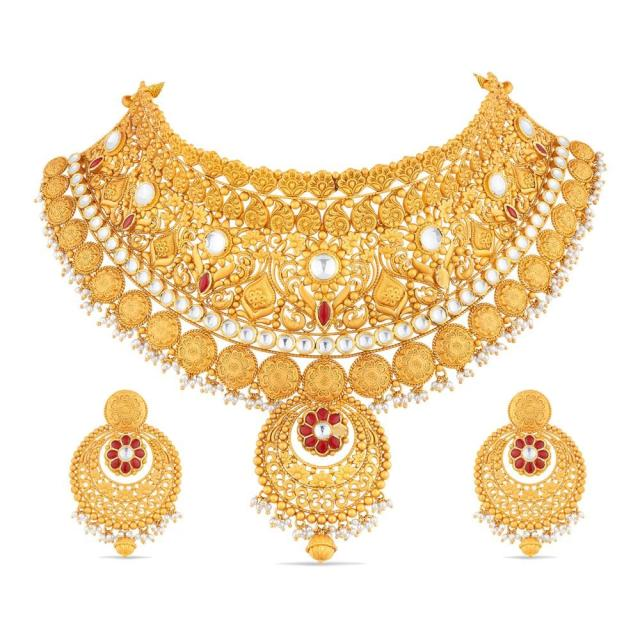missing gem: (436, 265, 450, 289), (332, 424, 345, 437)
